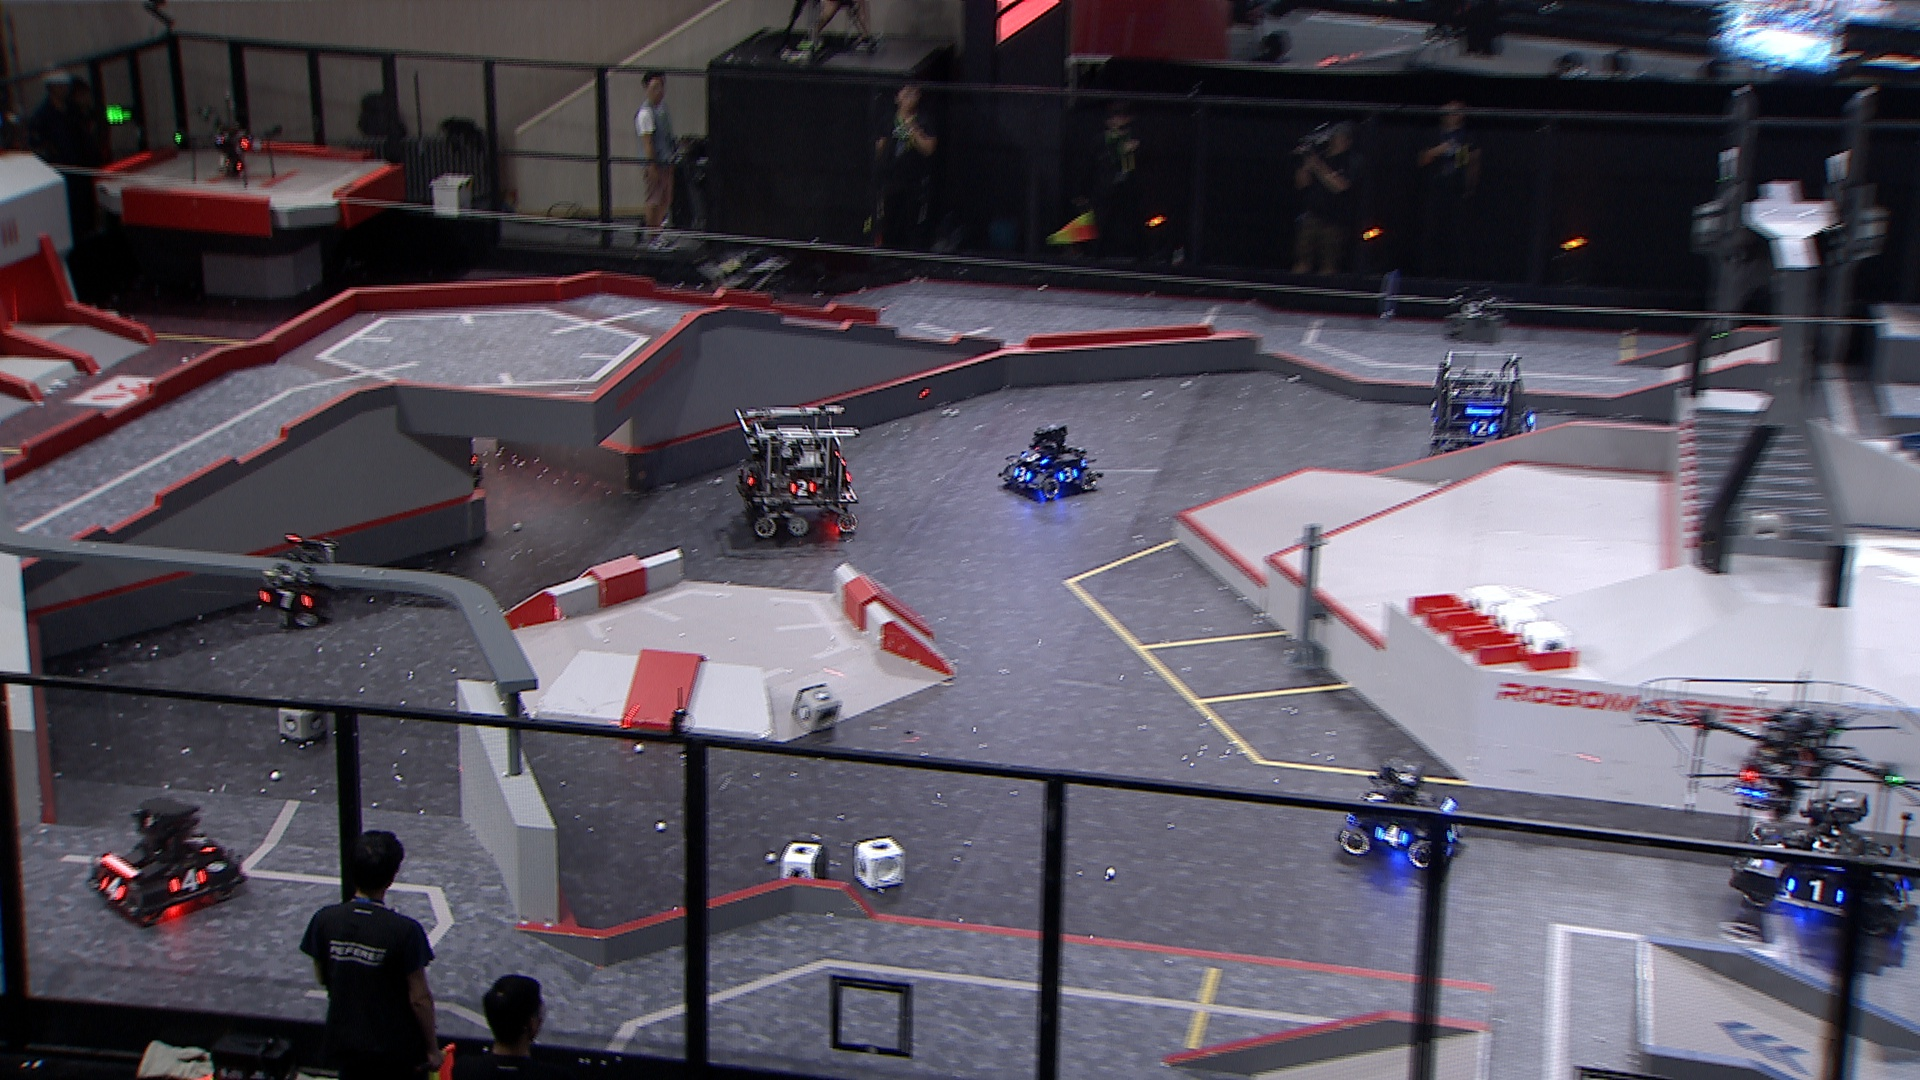armor: (1782, 873, 1846, 909), (258, 588, 316, 616), (166, 864, 210, 898), (182, 825, 223, 855), (96, 869, 127, 905), (1754, 833, 1783, 869), (1371, 822, 1410, 847), (1358, 787, 1390, 812), (735, 462, 760, 489), (1015, 447, 1048, 467), (787, 479, 818, 498), (1443, 816, 1462, 844), (1055, 465, 1081, 485), (1011, 463, 1035, 483), (1470, 419, 1495, 436)
car: (1727, 789, 1917, 942), (82, 793, 251, 931), (733, 400, 862, 541), (1337, 754, 1466, 874), (1429, 349, 1536, 455), (690, 247, 793, 339), (996, 423, 1097, 500)
watcher: (253, 531, 338, 632)
